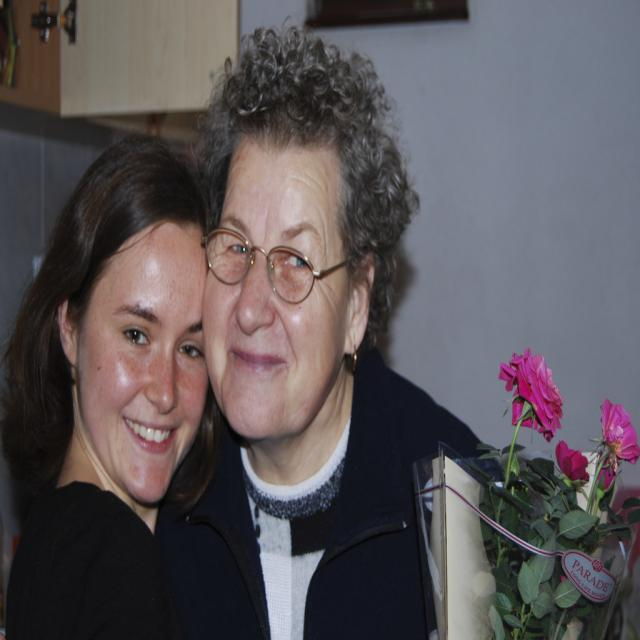Glasses: (194, 227, 366, 303)
